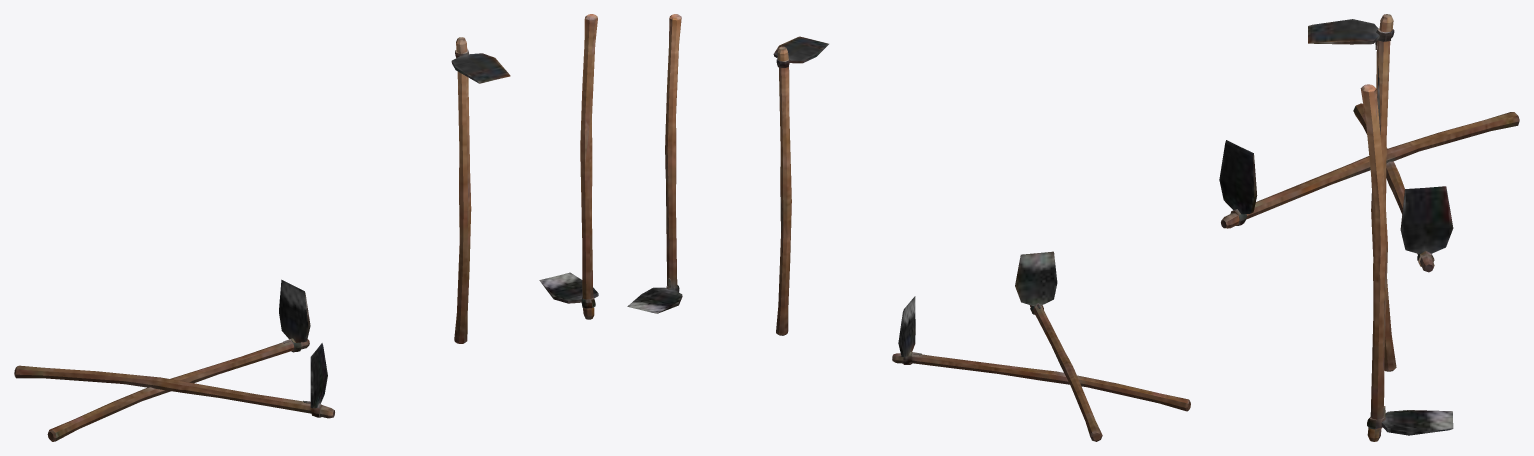
Rendered from hoe.fbx.
3 views of the same model, side by side, from view 1: azimuth 30°, elevation 25°; view 2: azimuth 150°, elevation 25°; view 3: azimuth 270°, elevation 25° (orthographic). The views are drawn at different scales.
Visible parts, largest first — view 1: Sickle.001, Sickle.002, Sickle.003, Sickle.004; view 2: Sickle.003, Sickle.002, Sickle.004, Sickle.001; view 3: Sickle.002, Sickle.001, Sickle.004, Sickle.003.
Part boxes in pixels (x1=…): Sickle.001: x1=14, y1=343, x2=334, y2=418; Sickle.002: x1=539, y1=14, x2=598, y2=319; Sickle.003: x1=451, y1=37, x2=510, y2=343; Sickle.004: x1=47, y1=279, x2=310, y2=441; Sickle.003: x1=773, y1=36, x2=828, y2=335; Sickle.002: x1=627, y1=14, x2=682, y2=313; Sickle.004: x1=892, y1=296, x2=1190, y2=411; Sickle.001: x1=1015, y1=251, x2=1102, y2=441; Sickle.002: x1=1360, y1=84, x2=1453, y2=441; Sickle.001: x1=1219, y1=112, x2=1519, y2=228; Sickle.004: x1=1353, y1=103, x2=1453, y2=272; Sickle.003: x1=1308, y1=14, x2=1396, y2=371.
Size of the model in its own units: 213 by 110 by 84.56.
